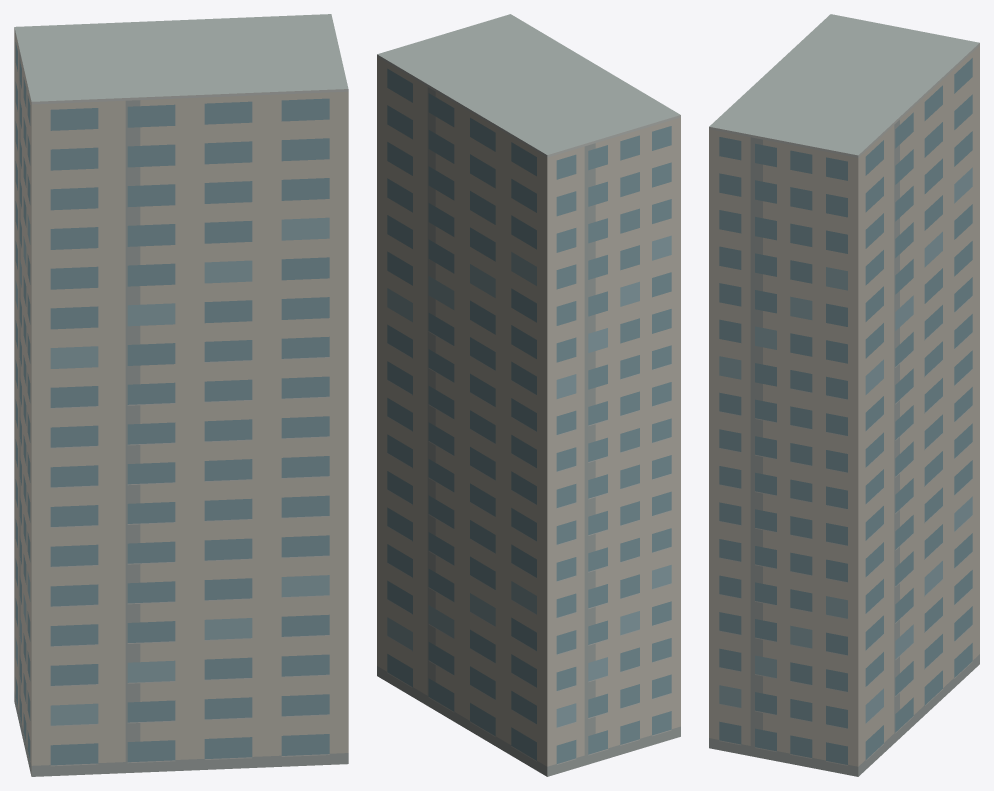
The model's file is residential-2709a6ba-c5a6-4eb7-888c-497aa6a1c4eb.glb.
3 views of the same model, side by side, from view 1: azimuth 30°, elevation 25°; view 2: azimuth 150°, elevation 25°; view 3: azimuth 270°, elevation 25° (orthographic). The views are drawn at different scales.
Parts seen in each view (by area): view 1: residential-2709a6ba-c5a6-4eb7-888c-497aa6a1c4eb.tmp; view 2: residential-2709a6ba-c5a6-4eb7-888c-497aa6a1c4eb.tmp; view 3: residential-2709a6ba-c5a6-4eb7-888c-497aa6a1c4eb.tmp.
Boxes of the visible parts, left/top/right/bottom form: residential-2709a6ba-c5a6-4eb7-888c-497aa6a1c4eb.tmp: left=14, top=14, right=348, bottom=776; residential-2709a6ba-c5a6-4eb7-888c-497aa6a1c4eb.tmp: left=377, top=14, right=680, bottom=776; residential-2709a6ba-c5a6-4eb7-888c-497aa6a1c4eb.tmp: left=709, top=14, right=979, bottom=776.
Bounding box in the file's own units: 29.3 × 60 × 23.71.
